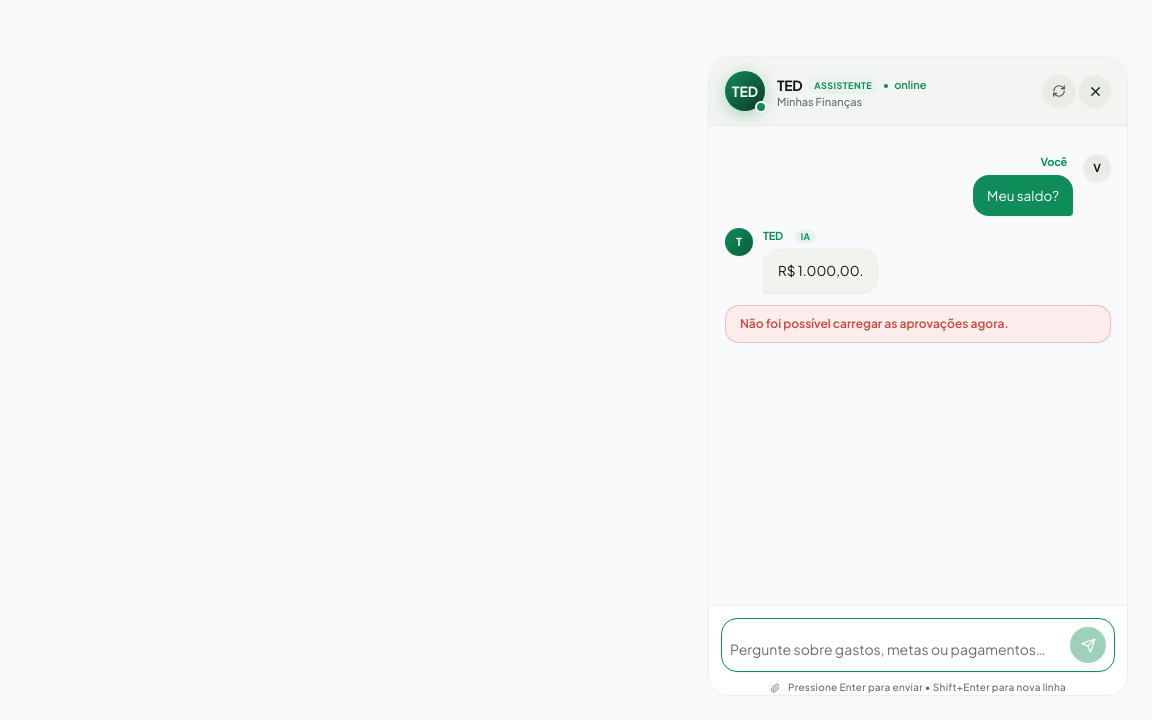
it: TedChat — sessão renovável e memória (Parte B) › renova a sessão: limpa o contexto, mantém o chat utilizável e avisa
This screenshot has width=1152, height=720.
Check: the text "Meu saldo?" is shown, box [987, 184, 1059, 206]
Click the button named "nova sessão" at (1059, 91), box [1043, 75, 1075, 107]
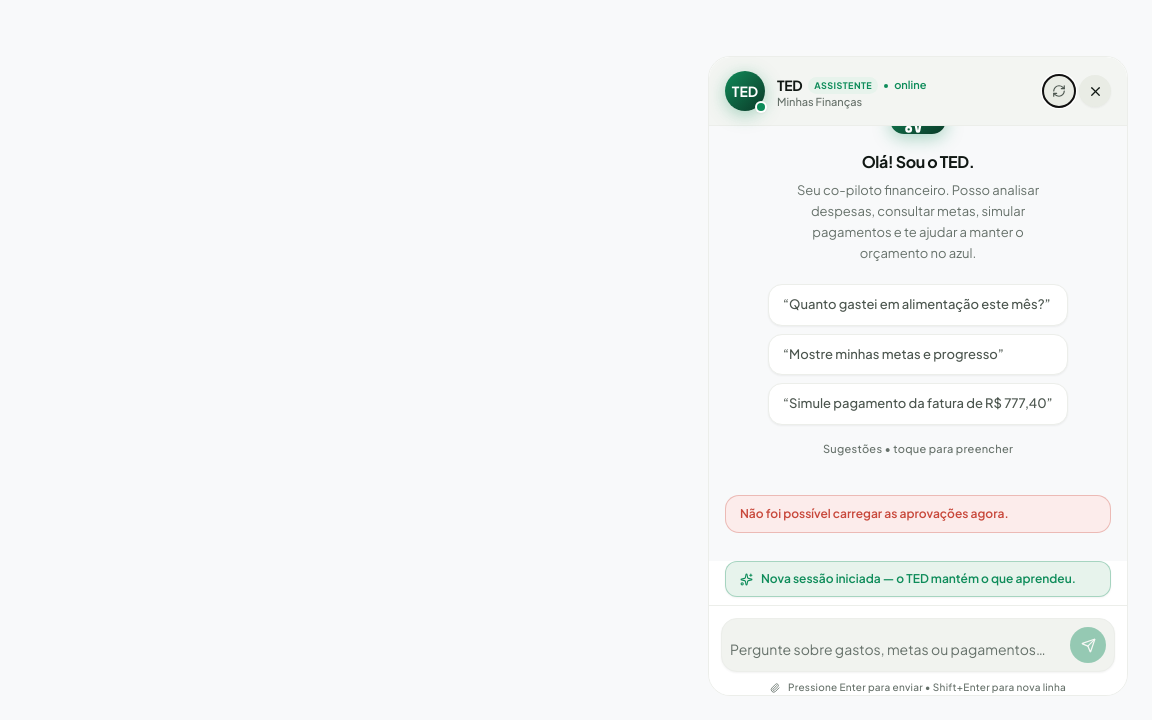
Check: the message "Nova sessão iniciada — o TED mantém o que aprendeu." is shown, box [725, 561, 1111, 597]
Check: the text "Meu saldo?" is gone
